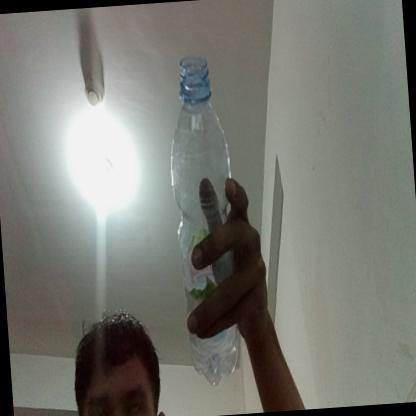plastic_bottles: (164, 60, 248, 385)
